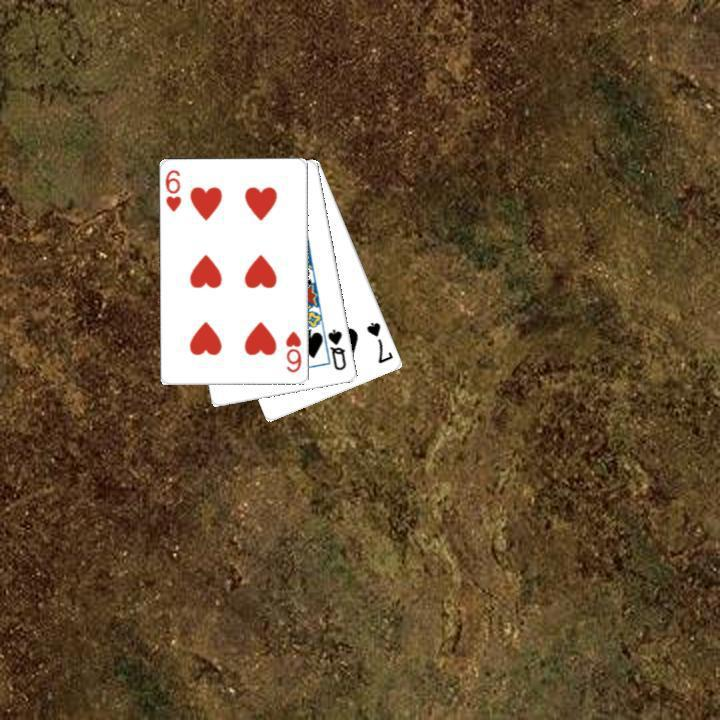6: (282, 327, 304, 375), (161, 166, 183, 214)
7: (362, 318, 395, 366)
Q: (324, 325, 349, 373)
